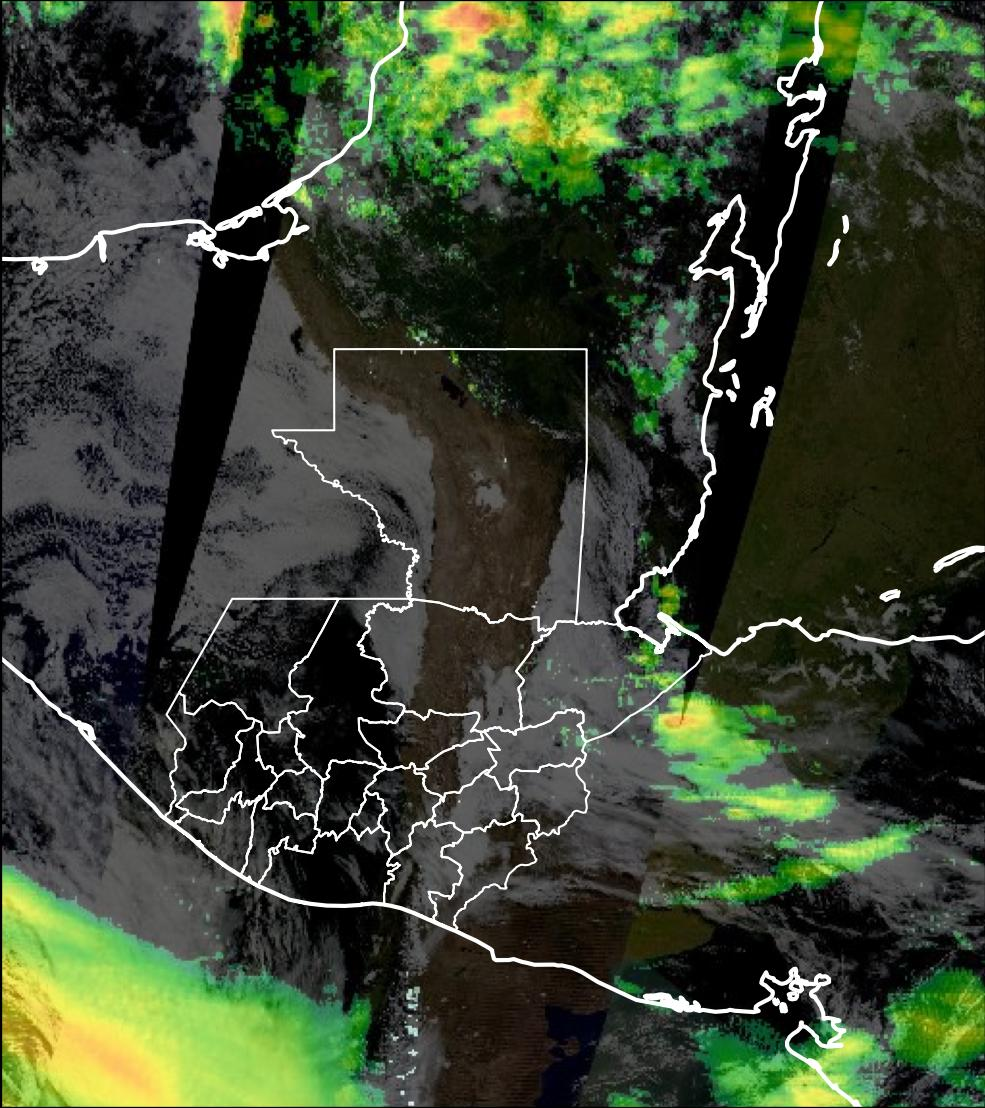precipitacion: (430, 2, 523, 52), (219, 1, 249, 70)
